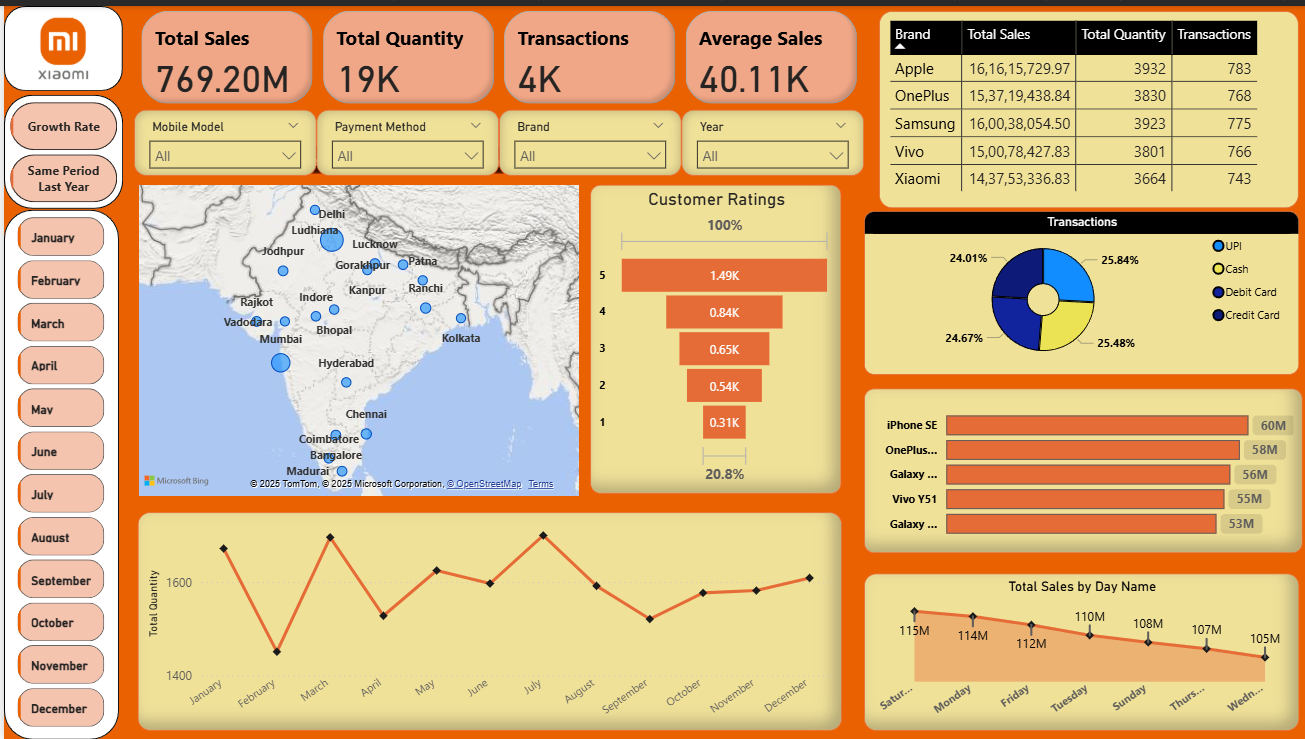

This screenshot's page, from the dashboard's own definition file:
{"tool":"powerbi","page":{"name":"Dashboard","canvas":[1280,720],"ordinal":0},"visuals":[{"type":"shape","box":[0,0,116.6,83.4],"z":0,"group":"g1"},{"type":"cardVisual","fields":{"Data":["Sheet1.Total Sales","Sales Data.Total Quantity","Sales Data.Transactions","Sales Data.Average Sales"]},"box":[130.1,0,714.1,101.8],"z":0},{"type":"shape","box":[0,87.3,117,112],"z":0,"group":"g3"},{"type":"shape","box":[0,200,112.9,520.2],"z":0,"group":"g2"},{"type":"image","box":[0,3.7,116.6,75.9],"z":1000,"group":"g1"},{"type":"map","fields":{"Category":["Sales Data.City"],"Size":["Sales Data.Total Sales"]},"box":[127.6,132.5,441.7,353.4],"z":1000},{"type":"advancedSlicerVisual","fields":{"Values":["Sheet1.Date.Variation.Date Hierarchy.Month"]},"box":[8.9,203,95.1,516.6],"z":1000,"group":"g2"},{"type":"lineChart","fields":{"Y":["Sales Data.Total Quantity"],"Category":["Sales Data.Date.Variation.Date Hierarchy.Month","Sales Data.Date.Variation.Date Hierarchy.Day"]},"box":[131.3,496.9,690.8,214.7],"z":2000},{"type":"clusteredBarChart","fields":{"Category":["Sales Data.Mobile Model"],"Y":["Sales Data.Total Sales"]},"box":[844.2,375.5,430.7,162],"z":3000},{"type":"donutChart","title":"Transactions","fields":{"Y":["Sales Data.Transactions"],"Category":["Sales Data.Payment Method"]},"box":[844.2,201.2,427,160.7],"z":4000},{"type":"funnel","title":"Customer Ratings","fields":{"Category":["Sales Data.Customer Ratings"],"Y":["CountNonNull(Sales Data.Customer Ratings)"]},"box":[575.5,175.5,246.6,303.1],"z":5000},{"type":"areaChart","fields":{"Category":["Sales Data.Day Name"],"Y":["Sales Data.Total Sales"]},"box":[844.2,557.1,427,154.6],"z":6000},{"type":"tableEx","fields":{"Values":["Sales Data.Brand","Sales Data.Total Sales","Sales Data.Total Quantity","Sales Data.Transactions"]},"box":[858.9,4.9,412.3,193.9],"z":7000},{"type":"group","id":"g1","title":"Group 1","box":[0,0,116.6,83.4],"z":8000},{"type":"slicer","fields":{"Values":["Sales Data.Mobile Model"]},"box":[127.6,101.8,179.1,65],"z":9000},{"type":"slicer","fields":{"Values":["Sales Data.Payment Method"]},"box":[306.8,101.8,179.1,65],"z":10000},{"type":"slicer","fields":{"Values":["Sales Data.Brand"]},"box":[485.9,101.8,179.1,65],"z":11000},{"type":"slicer","fields":{"Values":["Sales Data.Date.Variation.Date Hierarchy.Year"]},"box":[665,101.8,179.1,65],"z":12000},{"type":"group","id":"g2","title":"Group 2","box":[0,200,112.9,520.2],"z":13000},{"type":"group","id":"g3","title":"Group 1","box":[0,87.3,117,112],"z":13500,"group":"g4"},{"type":"pageNavigator","box":[6.1,94.7,105.5,98.2],"z":14000,"group":"g4"},{"type":"group","id":"g4","title":"Group 3","box":[0,87.3,117,112],"z":14001}]}

Visuals, with their boxes in screenshot pixels (x1, y1, x2, y2), scaled from the page's 1280x720 canvas onto the 1305x739 screenshot:
shape: box(0, 0, 119, 86)
cardVisual - Sheet1.Total Sales x Sales Data.Total Quantity: box(133, 0, 861, 104)
shape: box(0, 90, 119, 205)
shape: box(0, 205, 115, 738)
image: box(0, 4, 119, 82)
map - Sales Data.City x Sales Data.Total Sales: box(130, 136, 580, 499)
advancedSlicerVisual - Sheet1.Date.Variation.Date Hierarchy.Month: box(9, 208, 106, 738)
lineChart - Sales Data.Total Quantity x Sales Data.Date.Variation.Date Hierarchy.Month: box(134, 510, 838, 730)
clusteredBarChart - Sales Data.Mobile Model x Sales Data.Total Sales: box(861, 385, 1300, 552)
"Transactions" donutChart: box(861, 207, 1296, 371)
"Customer Ratings" funnel: box(587, 180, 838, 491)
areaChart - Sales Data.Day Name x Sales Data.Total Sales: box(861, 572, 1296, 730)
tableEx - Sales Data.Brand x Sales Data.Total Sales: box(876, 5, 1296, 204)
"Group 1" group: box(0, 0, 119, 86)
slicer - Sales Data.Mobile Model: box(130, 104, 313, 171)
slicer - Sales Data.Payment Method: box(313, 104, 495, 171)
slicer - Sales Data.Brand: box(495, 104, 678, 171)
slicer - Sales Data.Date.Variation.Date Hierarchy.Year: box(678, 104, 861, 171)
"Group 2" group: box(0, 205, 115, 738)
"Group 1" group: box(0, 90, 119, 205)
pageNavigator: box(6, 97, 114, 198)
"Group 3" group: box(0, 90, 119, 205)
